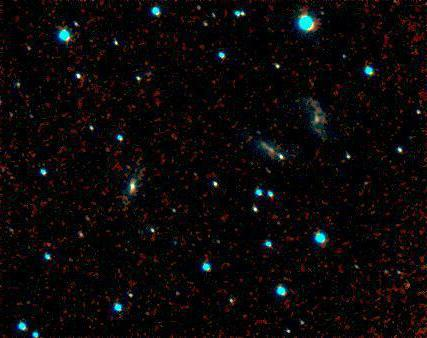star: (303, 290, 333, 320)
